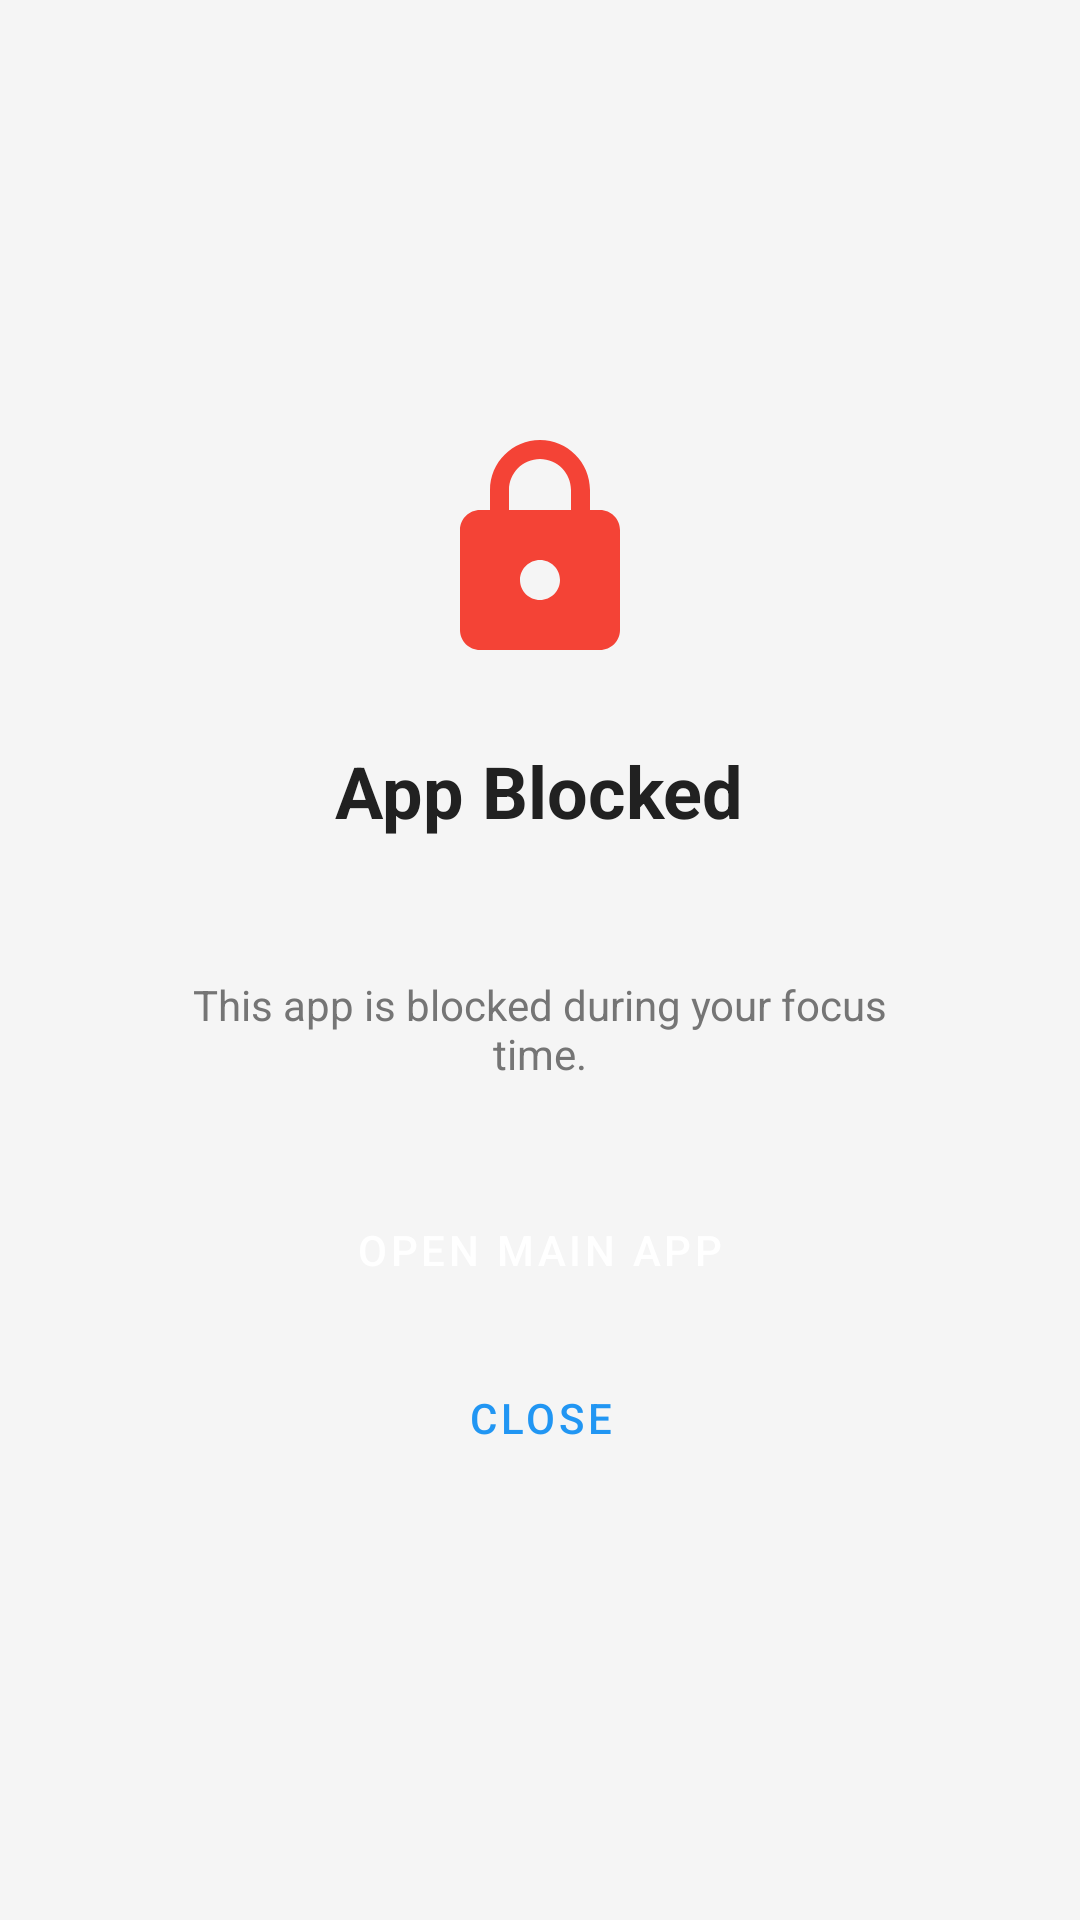

Icons on this 1080x1920 Android screen, each with the point to tap as (x,y):
Lock icon: (540,545)
